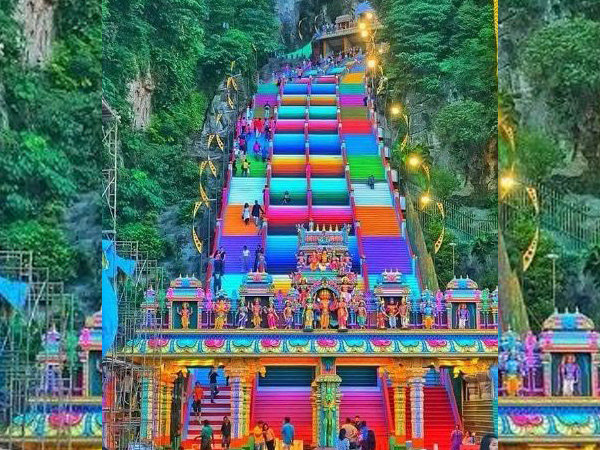Hindu Temple: (181, 229, 496, 362)
